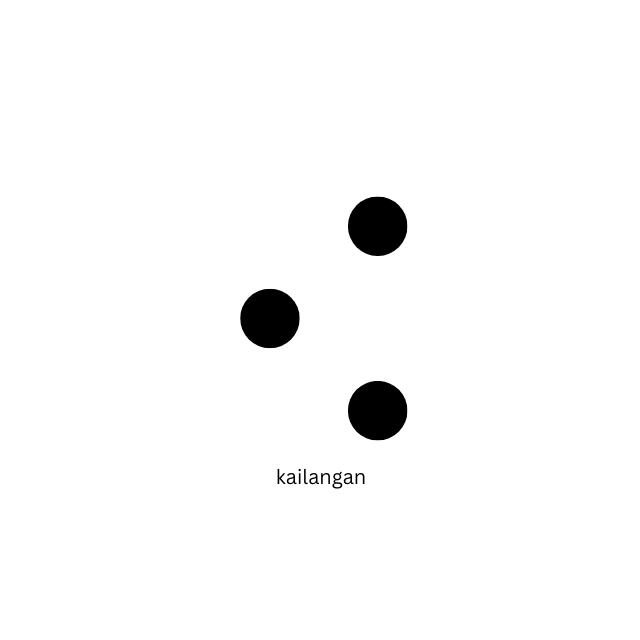dot_5: (134, 195, 303, 441)
two_cell_alphabet_kailangan: (346, 196, 514, 442)
